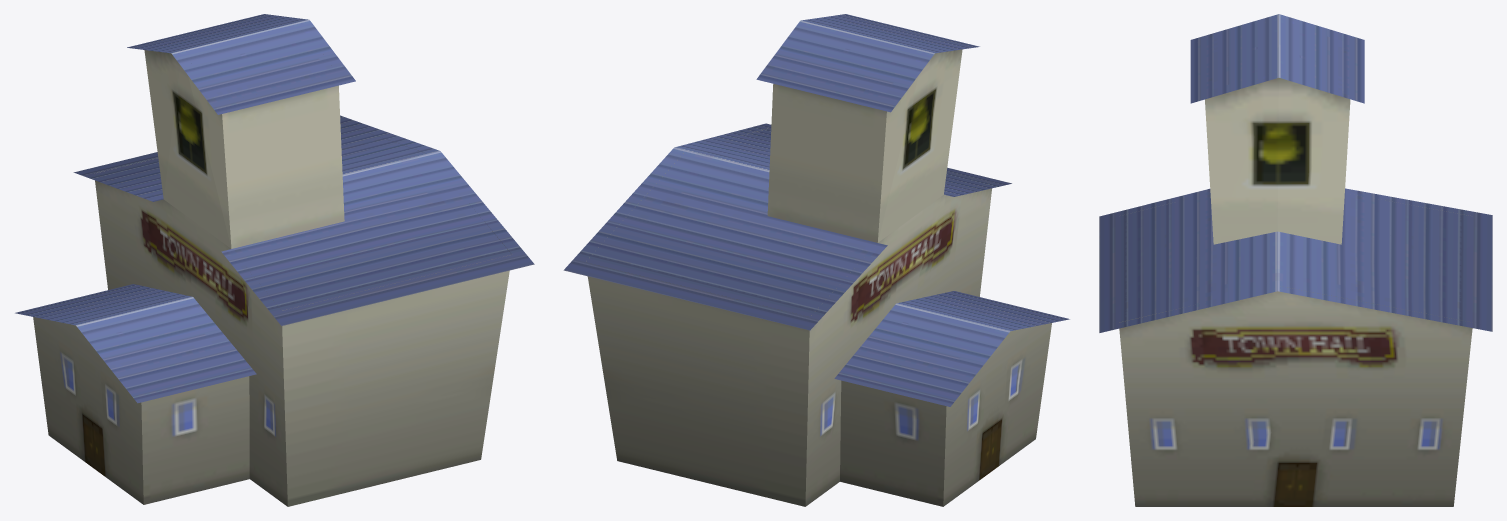
Rendered from townhall.DAE.
3 renders of one model, left to right at view 1: azimuth 30°, elevation 25°; view 2: azimuth 150°, elevation 25°; view 3: azimuth 270°, elevation 25°, orthographic. The views are drawn at different scales.
Visible parts, largest first — view 1: Box01; view 2: Box01; view 3: Box01.
Part boxes in pixels (x1,y1,x2,y2): Box01: (15,14,534,506); Box01: (563,14,1069,506); Box01: (1099,14,1492,506).
Bounding box in the file's own units: 63.38 × 64.36 × 69.59.
